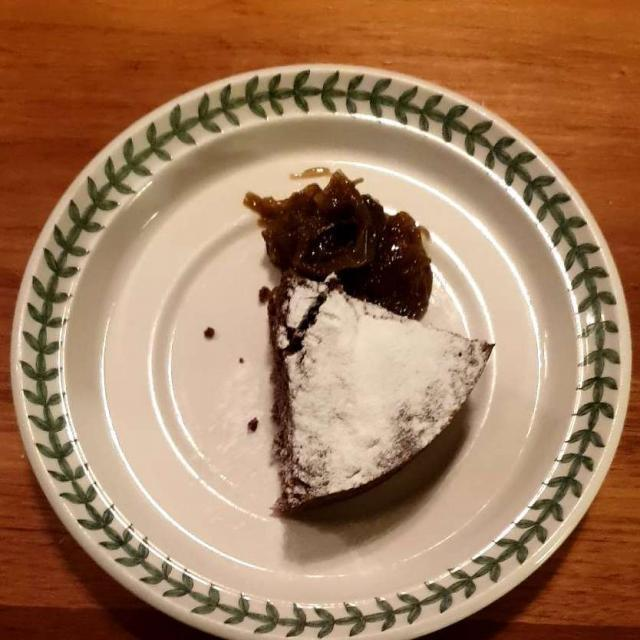cake: (263, 280, 519, 535)
jam: (251, 173, 431, 318)
